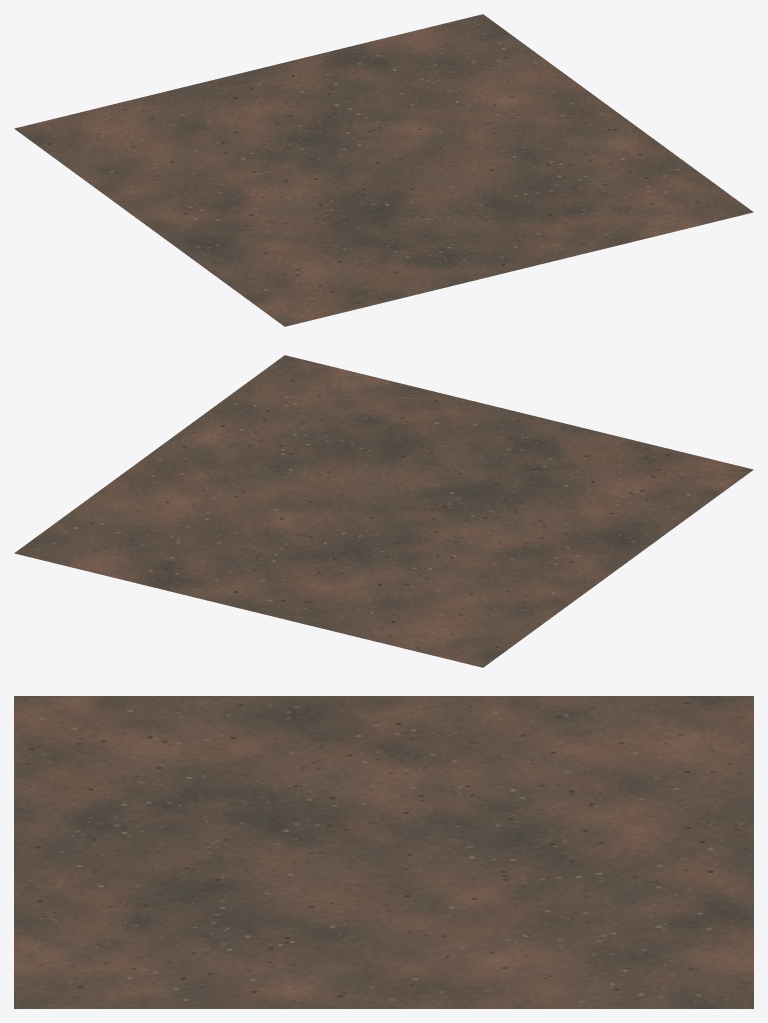
Rendered from E07_SOLOZ2_P1_TERRA_UMIDA_A.glb.
3 views of the same model, one above another, from view 1: azimuth 30°, elevation 25°; view 2: azimuth 150°, elevation 25°; view 3: azimuth 270°, elevation 25° (orthographic). The views are drawn at different scales.
Parts seen in each view (by area): view 1: piso_2x2_texturizado; view 2: piso_2x2_texturizado; view 3: piso_2x2_texturizado.
Part boxes in pixels (x1,y1,x2,y2): piso_2x2_texturizado: (14, 14, 753, 326); piso_2x2_texturizado: (14, 355, 753, 667); piso_2x2_texturizado: (14, 696, 753, 1008).
Bounding box in the file's own units: 2 × 0.00752 × 2.
Materials: 1 (1 with a texture image).
